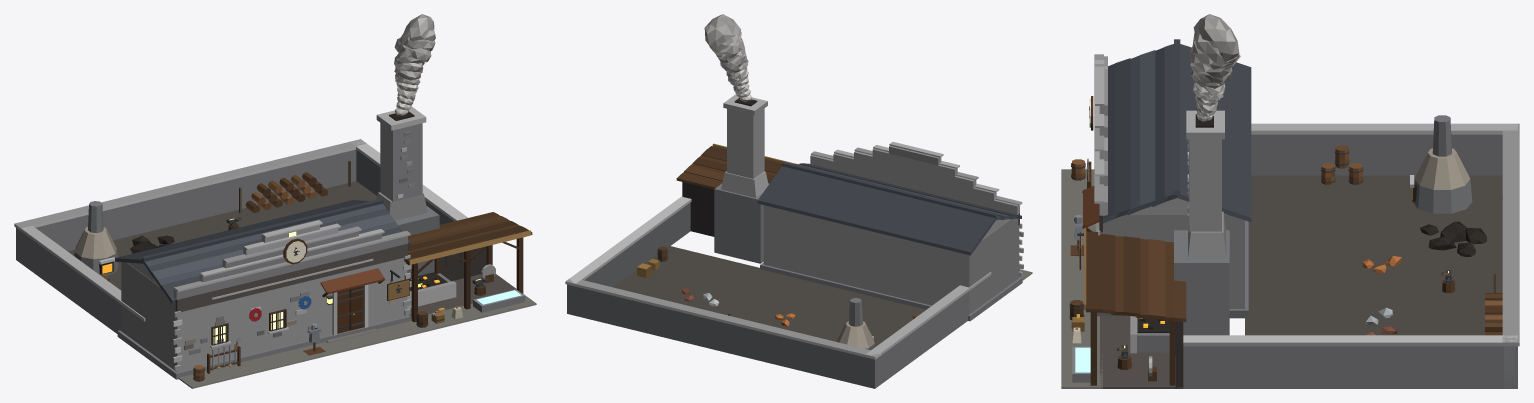
File: smithy.glb
3 renders of one model, left to right at view 1: azimuth 30°, elevation 25°; view 2: azimuth 150°, elevation 25°; view 3: azimuth 270°, elevation 25°, orthographic. The views are drawn at different scales.
Visible parts, largest first — view 1: smithy_body, smithy_ground, smithy_smoke1, smithy_smoke3, smithy_smoke0, smithy_smoke2; view 2: smithy_body, smithy_ground, smithy_smoke3, smithy_smoke2, smithy_smoke1; view 3: smithy_body, smithy_ground, smithy_smoke3, smithy_smoke2, smithy_smoke1, smithy_smoke0.
Boxes of the visible parts, left/top/right/bottom form: smithy_body: left=14, top=106, right=532, bottom=381; smithy_ground: left=68, top=181, right=536, bottom=388; smithy_smoke1: left=394, top=38, right=435, bottom=110; smithy_smoke3: left=395, top=14, right=434, bottom=100; smithy_smoke0: left=394, top=44, right=431, bottom=115; smithy_smoke2: left=394, top=29, right=435, bottom=105; smithy_body: left=565, top=94, right=1023, bottom=388; smithy_ground: left=613, top=246, right=1032, bottom=346; smithy_smoke3: left=704, top=14, right=746, bottom=91; smithy_smoke2: left=709, top=30, right=749, bottom=94; smithy_smoke1: left=716, top=38, right=750, bottom=97; smithy_body: left=1069, top=39, right=1519, bottom=388; smithy_ground: left=1061, top=169, right=1502, bottom=388; smithy_smoke3: left=1193, top=14, right=1239, bottom=113; smithy_smoke2: left=1193, top=33, right=1238, bottom=116; smithy_smoke1: left=1190, top=33, right=1239, bottom=119; smithy_smoke0: left=1190, top=46, right=1240, bottom=121.
Bounding box in the file's own units: 25.55 × 18.01 × 22.08.
